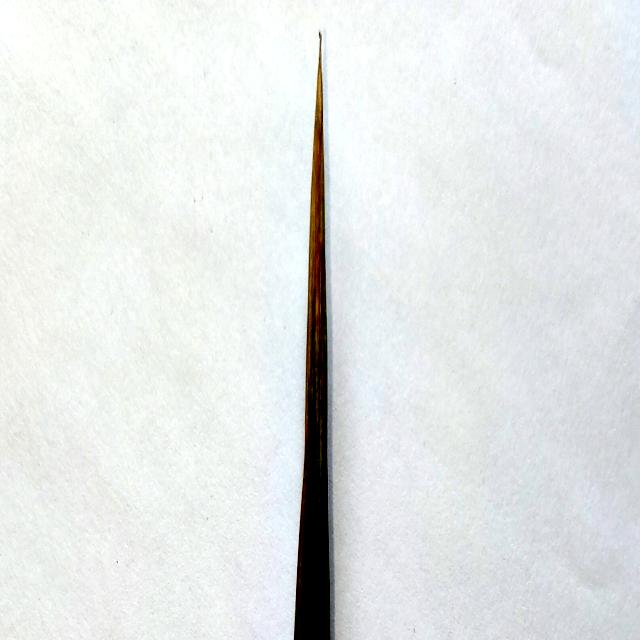NBS: (317, 511, 321, 581), (297, 607, 303, 640), (313, 588, 317, 626)
